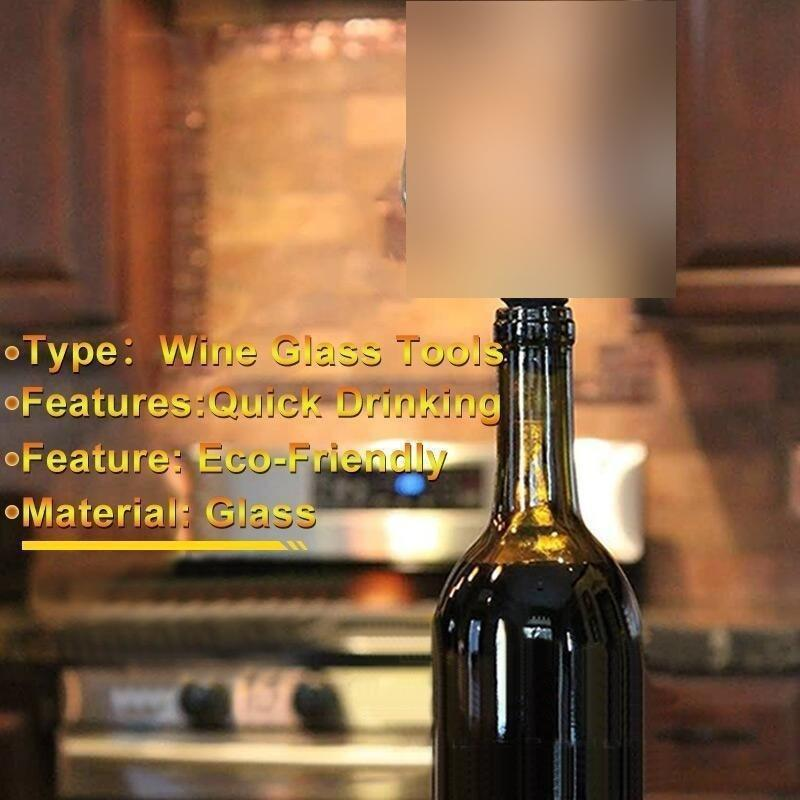bottle-glass: (426, 305, 674, 799)
